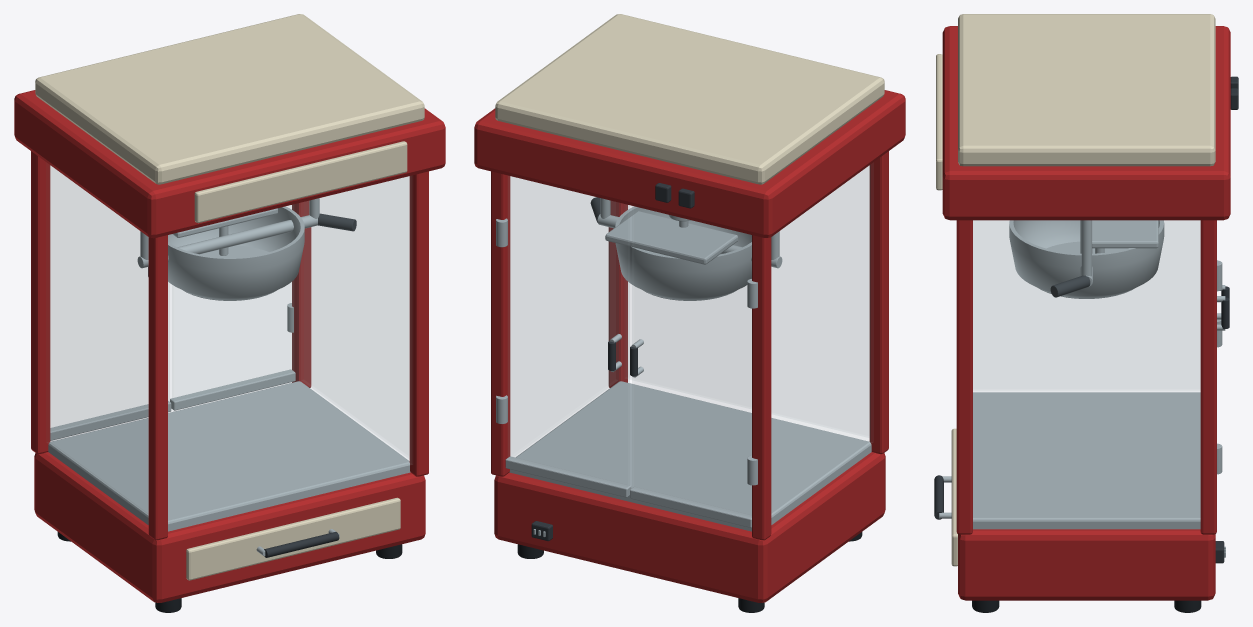
File: city-countertop-popcorn-machine.glb
3 renders of one model, left to right at view 1: azimuth 30°, elevation 25°; view 2: azimuth 150°, elevation 25°; view 3: azimuth 270°, elevation 25°, orthographic. The views are drawn at different scales.
Parts seen in each view (by area): view 1: Assembly | Light transparent snack cabinet pane, Assembly | Deep red enamel cabinet, Assembly | Warm cream enamel, Assembly | Brushed exposed steel, Assembly | Dark mechanism trim, Assembly | Rubber feet and hoses; view 2: Assembly | Light transparent snack cabinet pane, Assembly | Deep red enamel cabinet, Assembly | Brushed exposed steel, Assembly | Warm cream enamel, Assembly | Dark mechanism trim, Assembly | Rubber feet and hoses; view 3: Assembly | Light transparent snack cabinet pane, Assembly | Deep red enamel cabinet, Assembly | Brushed exposed steel, Assembly | Warm cream enamel, Assembly | Dark mechanism trim, Assembly | Rubber feet and hoses.
Part boxes in pixels (left/top/right/bottom): Assembly | Light transparent snack cabinet pane: left=48, top=165, right=411, bottom=523; Assembly | Deep red enamel cabinet: left=14, top=90, right=445, bottom=602; Assembly | Warm cream enamel: left=35, top=14, right=424, bottom=580; Assembly | Brushed exposed steel: left=48, top=198, right=410, bottom=556; Assembly | Dark mechanism trim: left=148, top=213, right=356, bottom=557; Assembly | Rubber feet and hoses: left=57, top=532, right=402, bottom=612; Assembly | Light transparent snack cabinet pane: left=508, top=165, right=871, bottom=515; Assembly | Deep red enamel cabinet: left=474, top=90, right=905, bottom=602; Assembly | Brushed exposed steel: left=496, top=198, right=871, bottom=536; Assembly | Warm cream enamel: left=495, top=14, right=884, bottom=184; Assembly | Dark mechanism trim: left=531, top=183, right=694, bottom=541; Assembly | Rubber feet and hoses: left=517, top=532, right=862, bottom=612; Assembly | Light transparent snack cabinet pane: left=973, top=220, right=1200, bottom=518; Assembly | Deep red enamel cabinet: left=942, top=26, right=1230, bottom=600; Assembly | Brushed exposed steel: left=939, top=220, right=1225, bottom=557; Assembly | Warm cream enamel: left=936, top=14, right=1215, bottom=566; Assembly | Dark mechanism trim: left=934, top=76, right=1238, bottom=563; Assembly | Rubber feet and hoses: left=972, top=600, right=1201, bottom=612.
Size of the model in its own units: 0.68 by 0.995 by 0.581.
